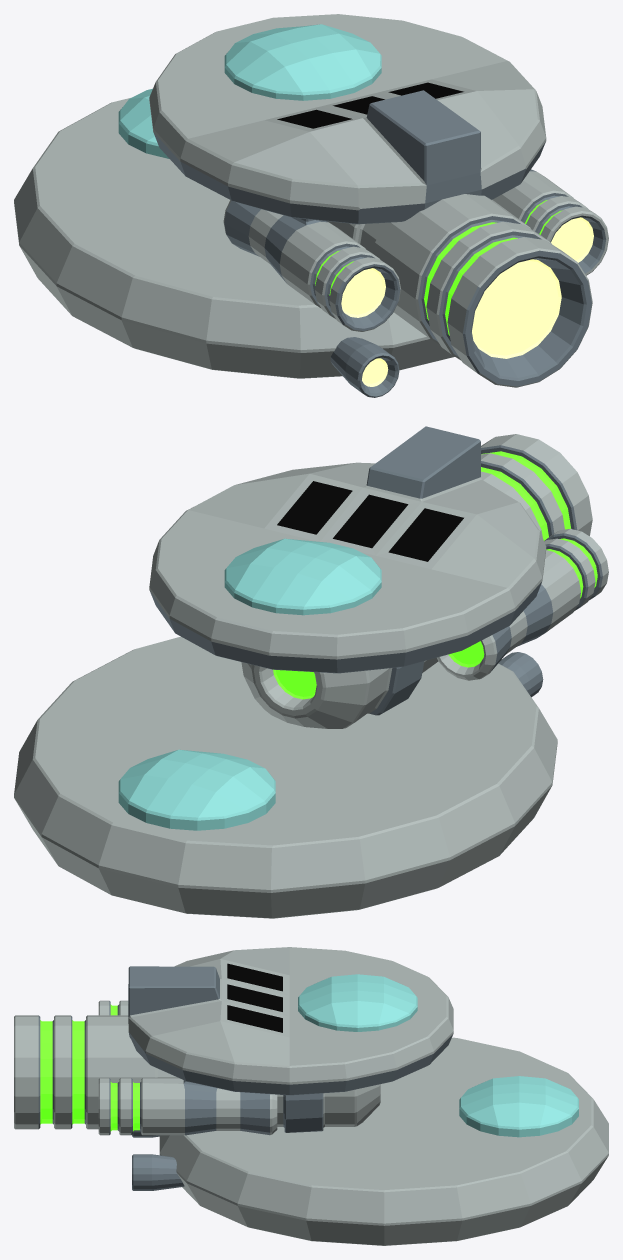
File: Spaceship 2.fbx
3 views of the same model, one above another, from view 1: azimuth 30°, elevation 25°; view 2: azimuth 150°, elevation 25°; view 3: azimuth 270°, elevation 25° (orthographic). The views are drawn at different scales.
Visible parts, largest first — view 1: SpaceShip; view 2: SpaceShip; view 3: SpaceShip.
Part boxes in pixels (box(x1,y1,x2,y2)): SpaceShip: box(14, 14, 608, 397); SpaceShip: box(14, 426, 608, 918); SpaceShip: box(14, 947, 608, 1245).
Size of the model in its own units: 3014 by 1574 by 4442.
